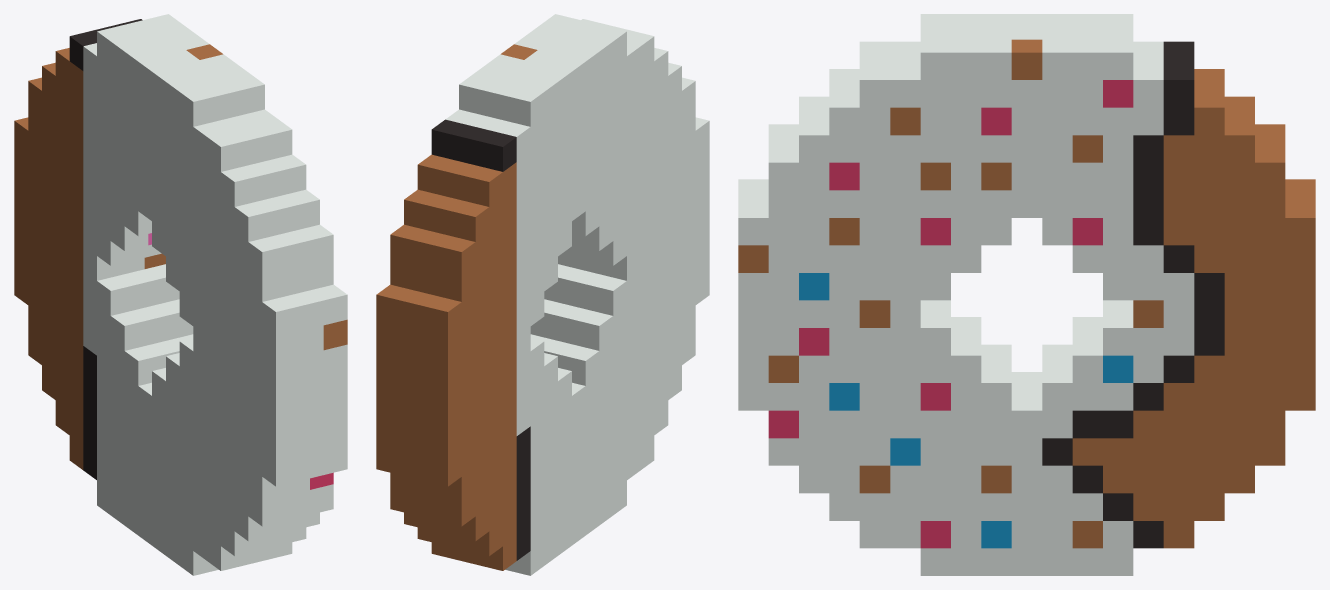
Rendered from Eruption-31.obj.
3 renders of one model, left to right at view 1: azimuth 30°, elevation 25°; view 2: azimuth 150°, elevation 25°; view 3: azimuth 270°, elevation 25°, orthographic. The views are drawn at different scales.
Bounding box in the file's own units: 0.3 × 1.9 × 1.9.
1 material, 1 textured.
